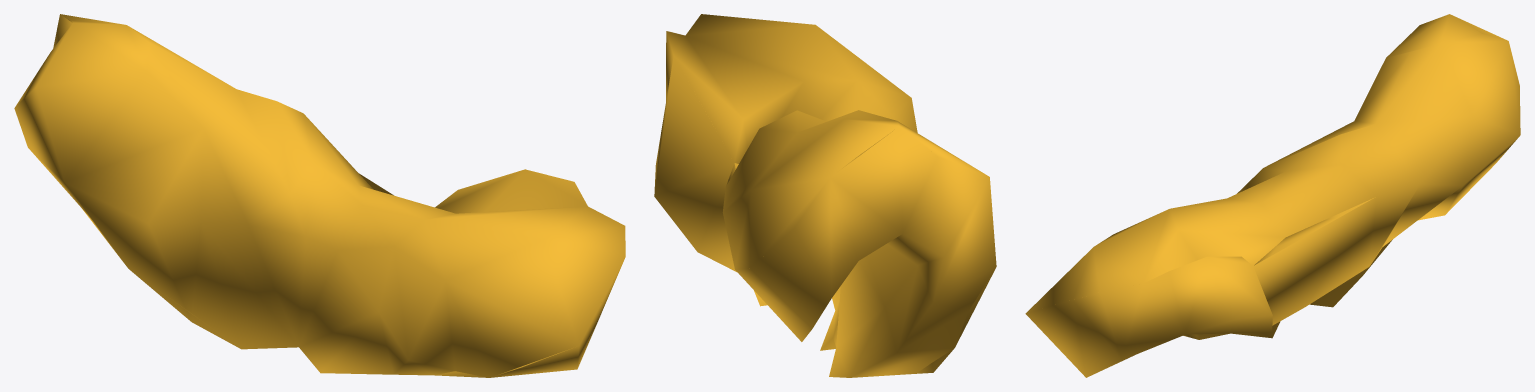
File: nervoso-transverse-temporal-gyri-l.glb
The picture shows the model from 3 angles, left to right: view 1: azimuth 30°, elevation 25°; view 2: azimuth 150°, elevation 25°; view 3: azimuth 270°, elevation 25°; orthographic projection. The views are drawn at different scales.
Visible parts, largest first — view 1: Transverse temporal gyri.l; view 2: Transverse temporal gyri.l; view 3: Transverse temporal gyri.l.
Part boxes in pixels (x1,y1,x2,y2): Transverse temporal gyri.l: (14,14,625,377); Transverse temporal gyri.l: (654,14,996,377); Transverse temporal gyri.l: (1025,14,1520,377).
Size of the model in its own units: 0.0213 by 0.0144 by 0.0254.
